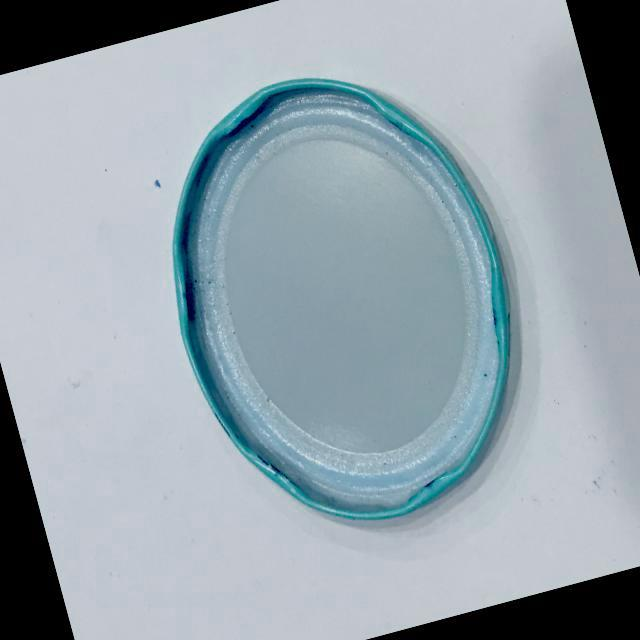metal: (118, 16, 596, 574)
